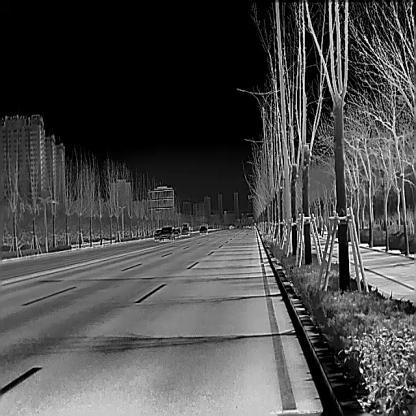car: (159, 226, 174, 240), (154, 229, 162, 241), (172, 227, 181, 237), (199, 225, 208, 235), (181, 226, 189, 235)
